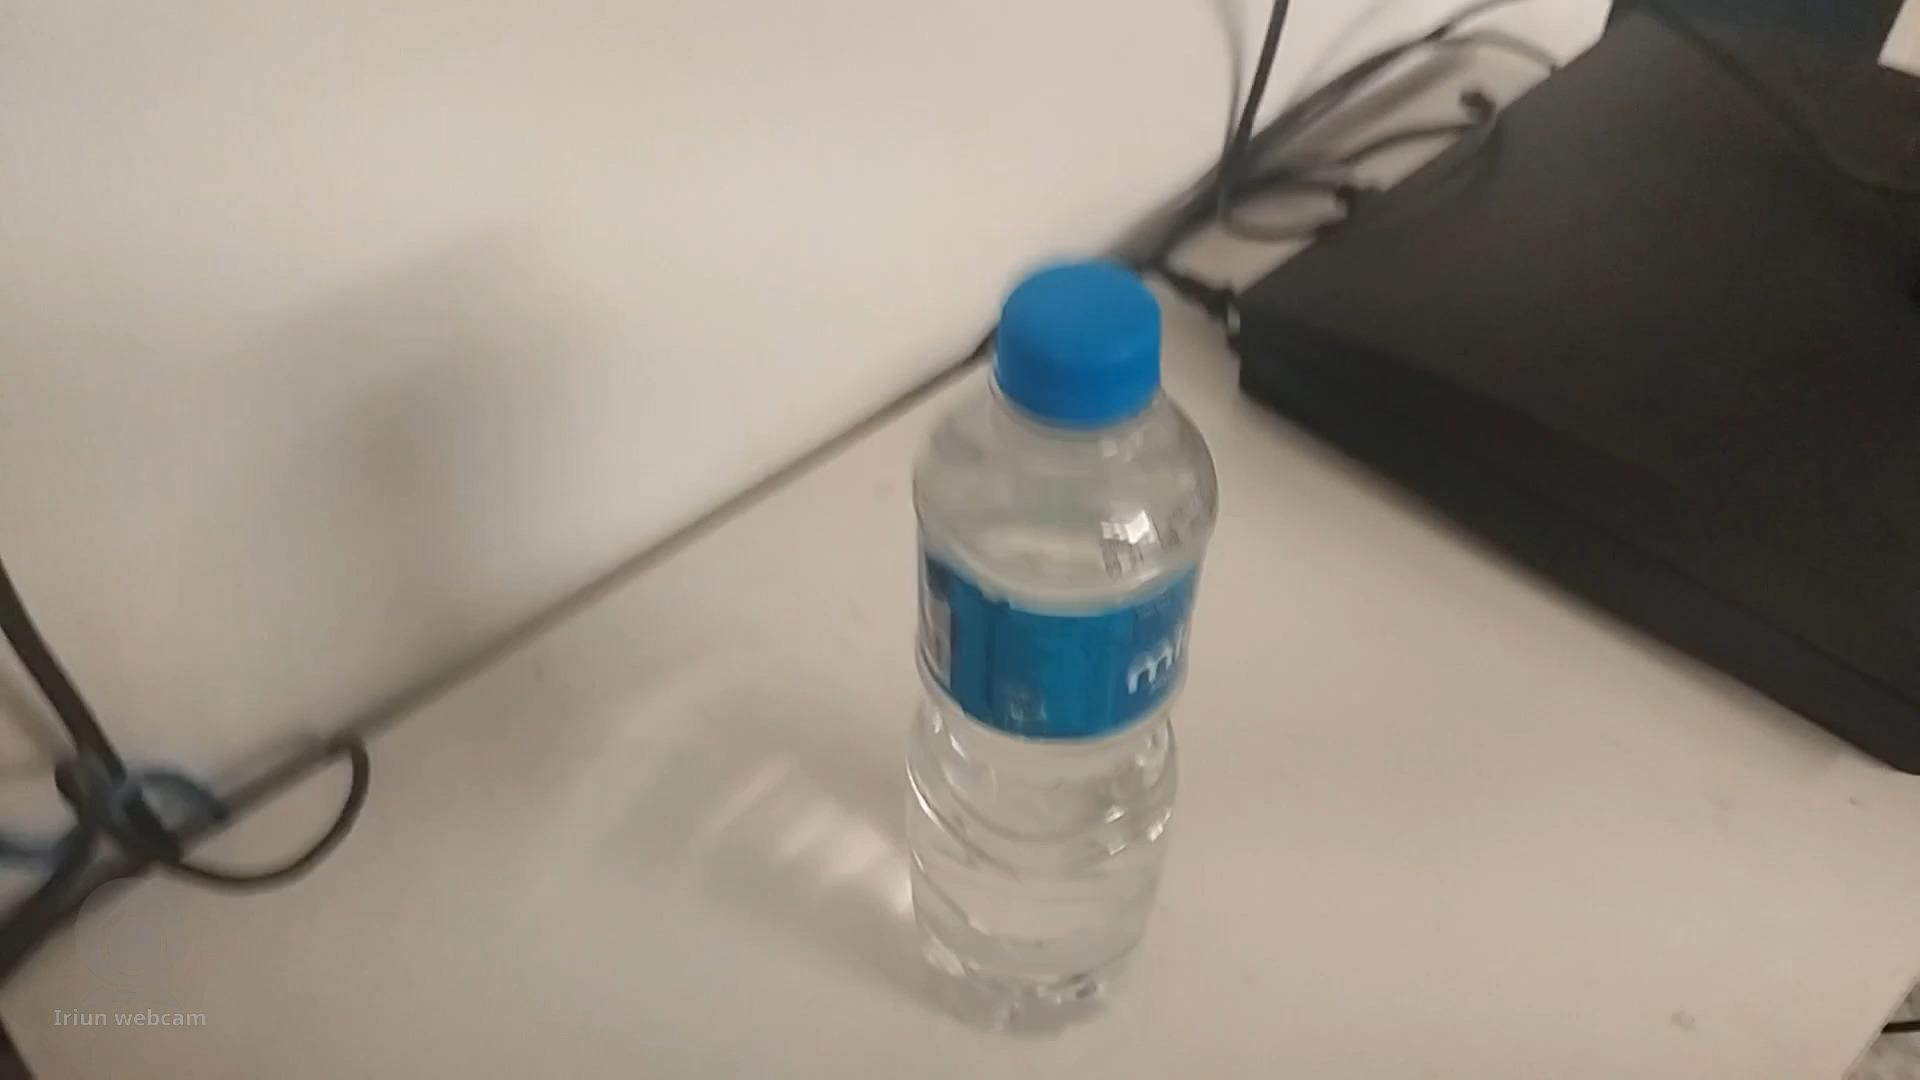agua: (909, 258, 1217, 1035)
